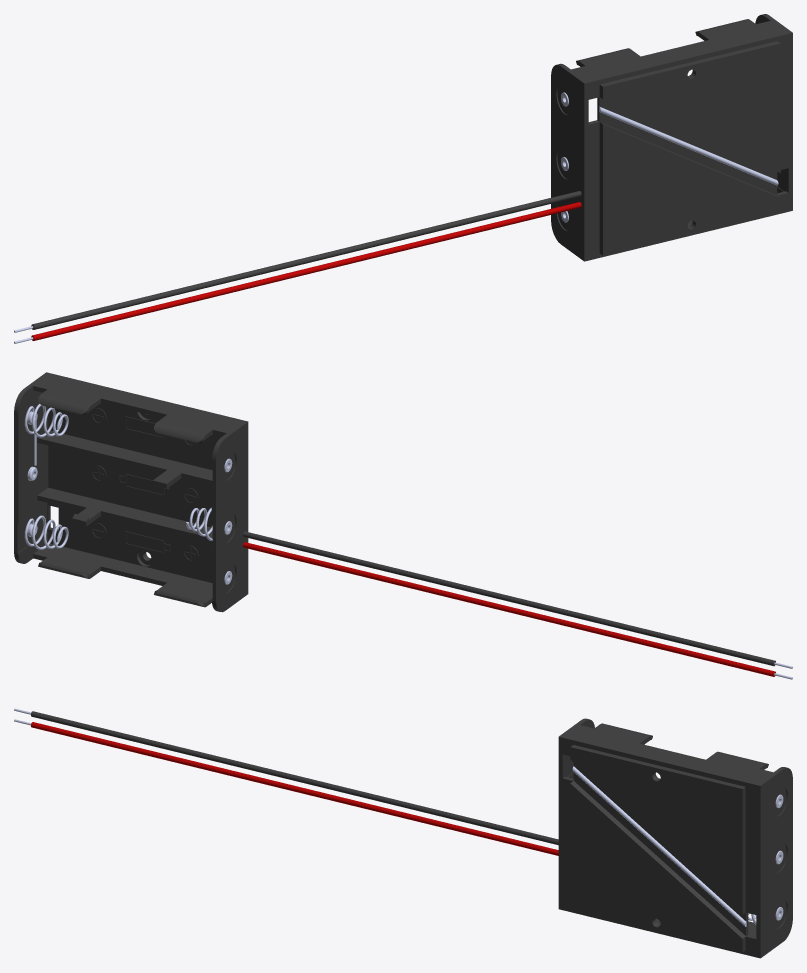
Rendered from BH3AAW.glb.
3 views of the same model, one above another, from view 1: azimuth 30°, elevation 25°; view 2: azimuth 150°, elevation 25°; view 3: azimuth 330°, elevation 25° (orthographic). The views are drawn at different scales.
Visible parts, largest first — view 1: HOLDER; view 2: HOLDER; view 3: HOLDER.
Part boxes in pixels (bbox=[...]): HOLDER: bbox=[14, 14, 792, 343]; HOLDER: bbox=[14, 372, 792, 679]; HOLDER: bbox=[14, 708, 792, 958].
Size of the model in its own units: 0.2122 by 0.0466 by 0.0174.
